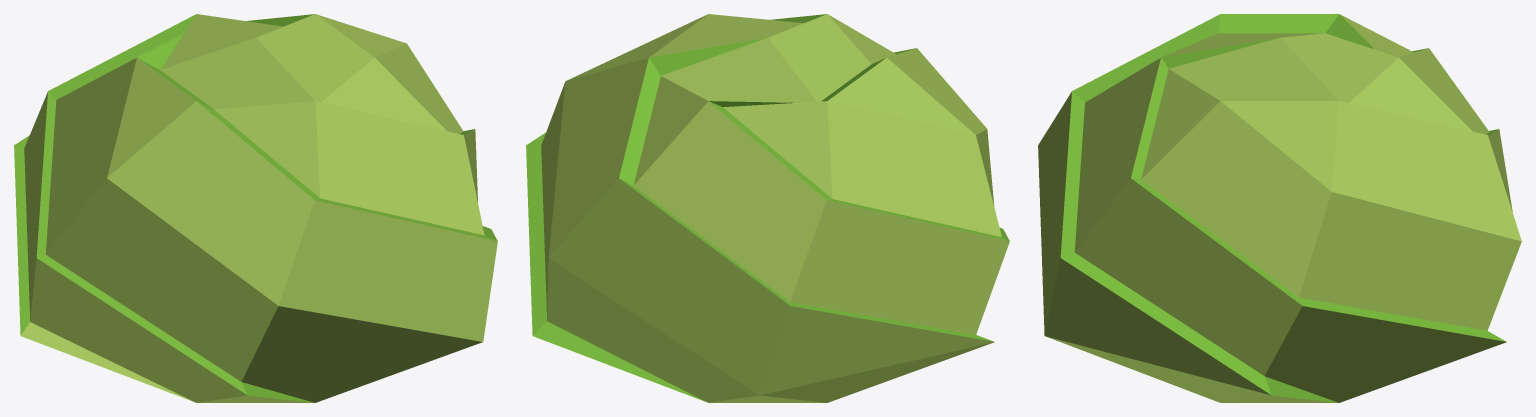
Rendered from Lettuce.fbx.
The picture shows the model from 3 angles, left to right: view 1: azimuth 30°, elevation 25°; view 2: azimuth 150°, elevation 25°; view 3: azimuth 270°, elevation 25°; orthographic projection.
Visible parts, largest first — view 1: Lettuce; view 2: Lettuce; view 3: Lettuce.
Boxes of the visible parts, left/top/right/bottom form: Lettuce: left=14, top=14, right=497, bottom=402; Lettuce: left=526, top=14, right=1009, bottom=402; Lettuce: left=1038, top=14, right=1521, bottom=402.
Bounding box in the file's own units: 0.5569 × 0.3928 × 0.5043.
